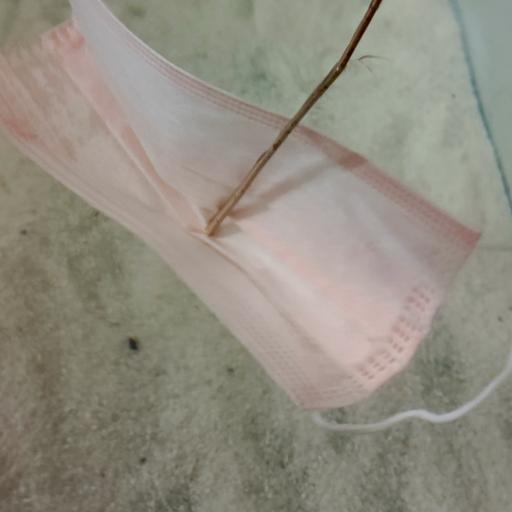mask: (5, 4, 486, 425)
